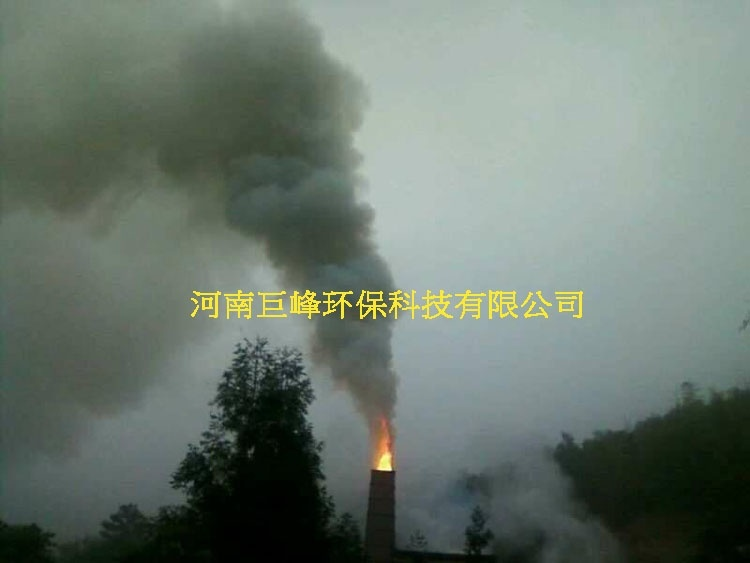fire: (371, 416, 394, 470)
